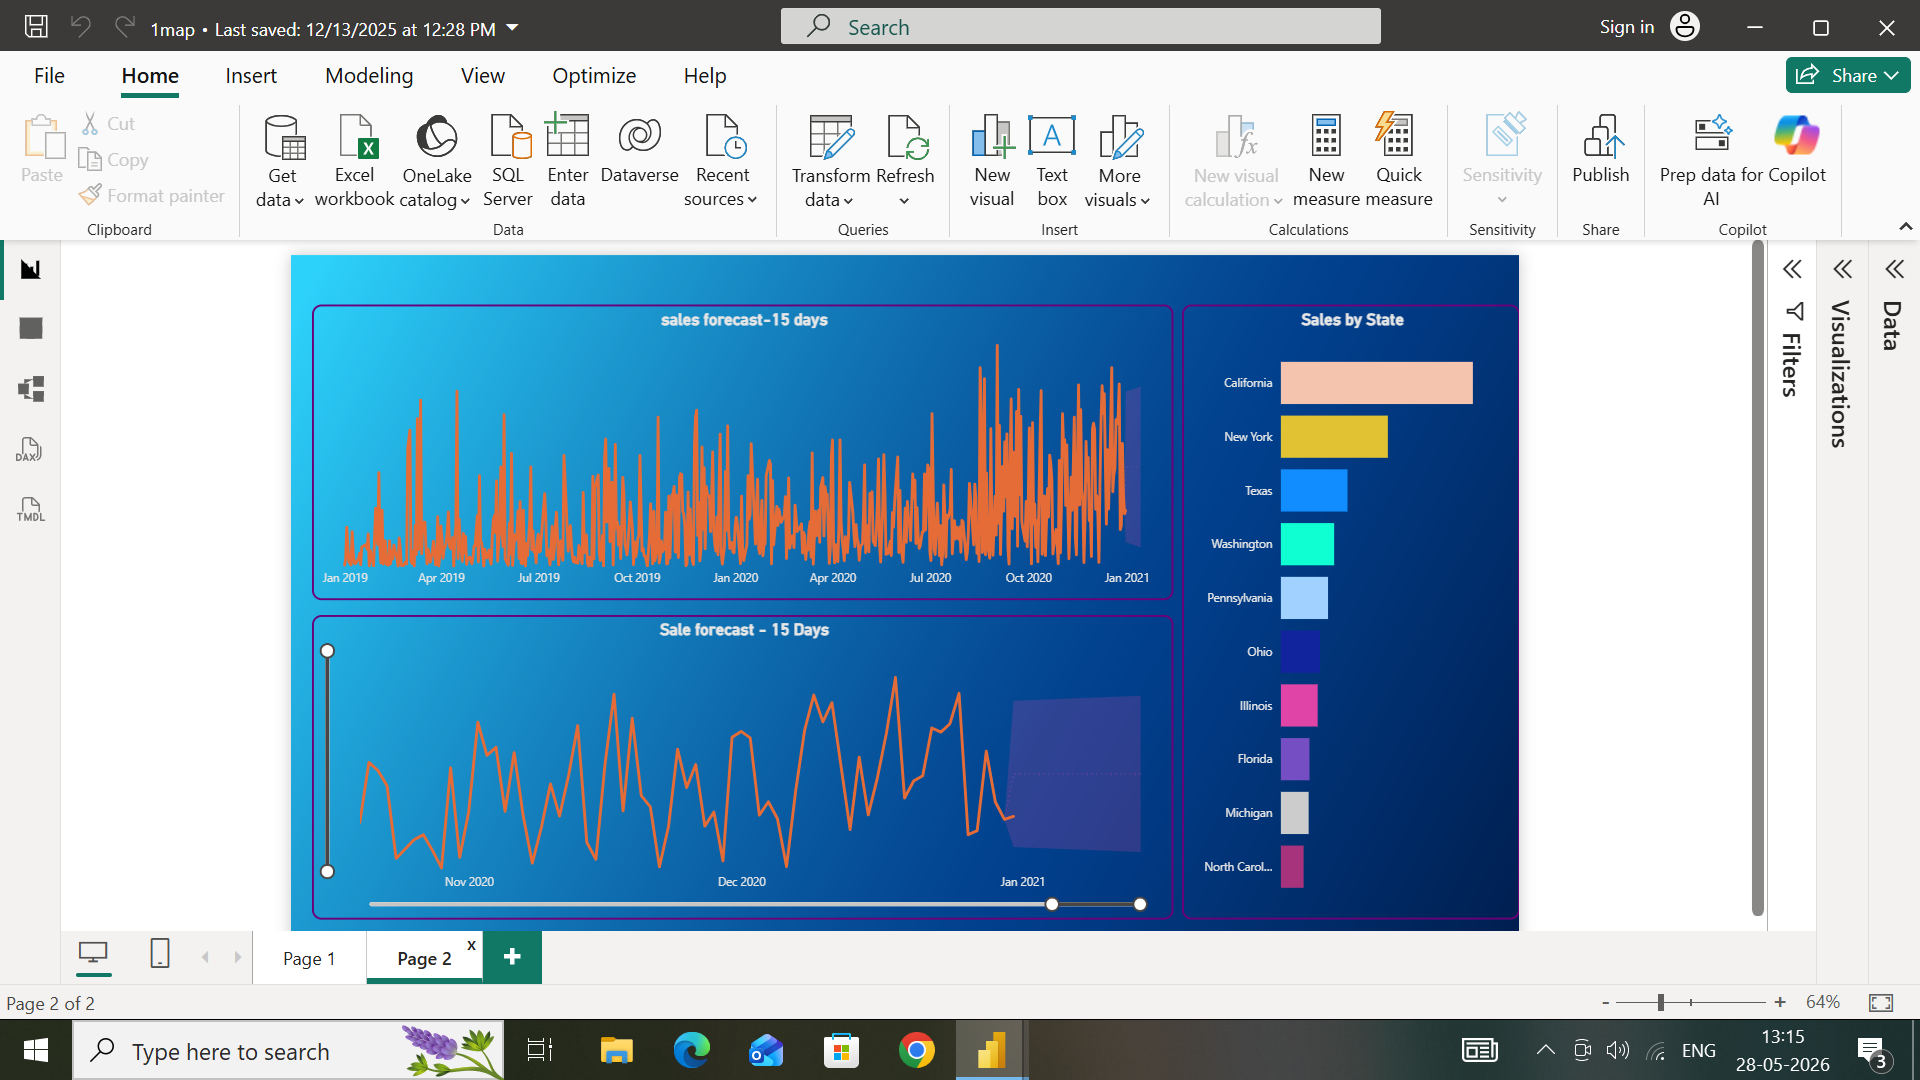

This screenshot's page, from the dashboard's own definition file:
{"tool":"powerbi","page":{"name":"Page 2","canvas":[1280,720],"ordinal":1},"visuals":[{"type":"lineChart","title":"sales forecast-15 days","fields":{"Y":["Sum(SuperStore_Sales_Dataset.Sales)"],"Category":["SuperStore_Sales_Dataset.Order Date"]},"box":[21.9,51.6,897.2,307.9],"z":0},{"type":"lineChart","title":"Sale forecast - 15 Days","fields":{"Y":["Sum(SuperStore_Sales_Dataset.Sales)"],"Category":["SuperStore_Sales_Dataset.Order Date"]},"box":[21.9,375.1,897.2,317.3],"z":1000},{"type":"clusteredBarChart","title":"Sales by State","fields":{"Category":["SuperStore_Sales_Dataset.State"],"Y":["Sum(SuperStore_Sales_Dataset.Sales)"]},"box":[928.4,51.6,351.7,640.8],"z":2000}]}

Visuals, with their boxes on the page's 1280x720 design canvas (x1, y1, x2, y2). These are canvas units, not pixel positions in the 1920x1080 screenshot, which may show the page scaled, cropped or inside an application window:
"sales forecast-15 days" lineChart: [left=22, top=52, right=919, bottom=360]
"Sale forecast - 15 Days" lineChart: [left=22, top=375, right=919, bottom=692]
"Sales by State" clusteredBarChart: [left=928, top=52, right=1280, bottom=692]
